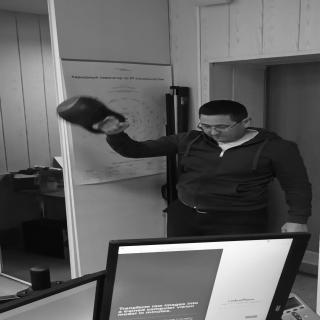girya: (59, 96, 129, 135)
